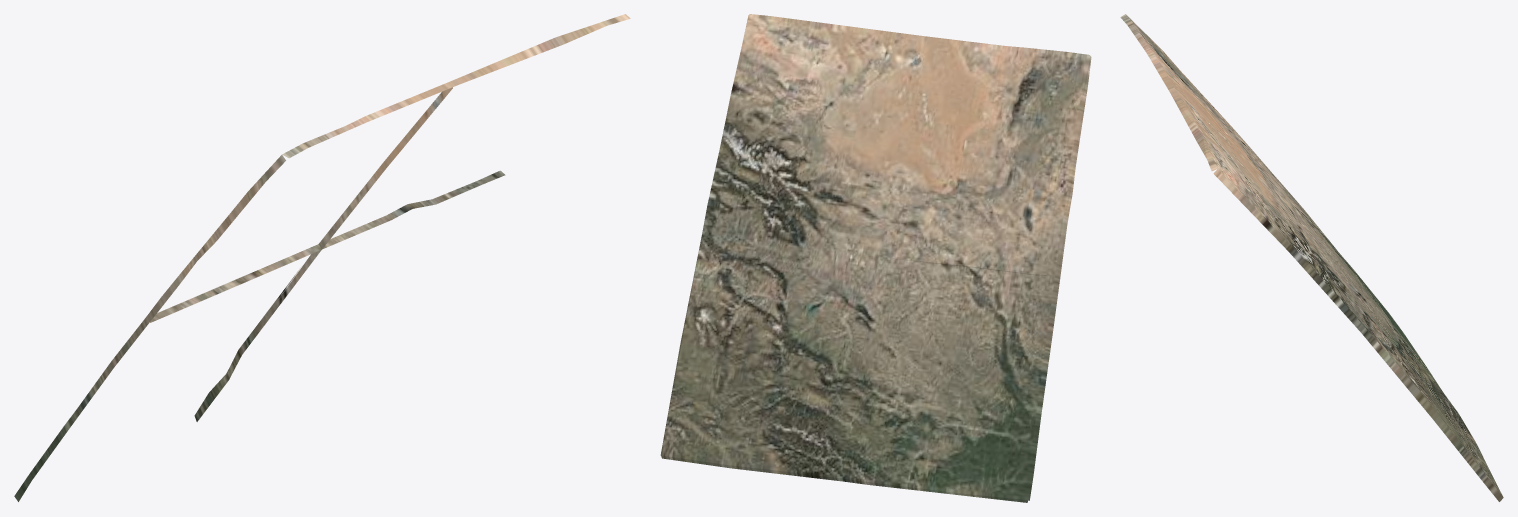
3 views of the same model, side by side, from view 1: azimuth 30°, elevation 25°; view 2: azimuth 150°, elevation 25°; view 3: azimuth 270°, elevation 25° (orthographic). The views are drawn at different scales.
Bounding box in the file's own units: 584754 × 512807 × 493611.
Materials: 1 (1 with a texture image).
